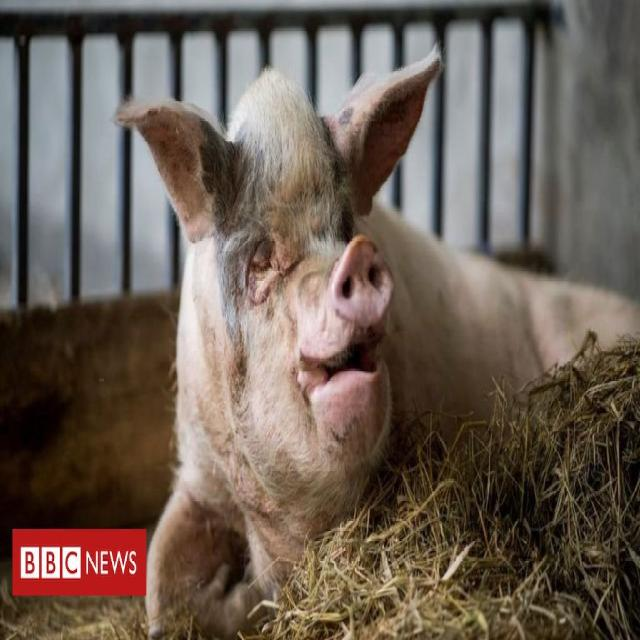Pig: (117, 41, 640, 640)
